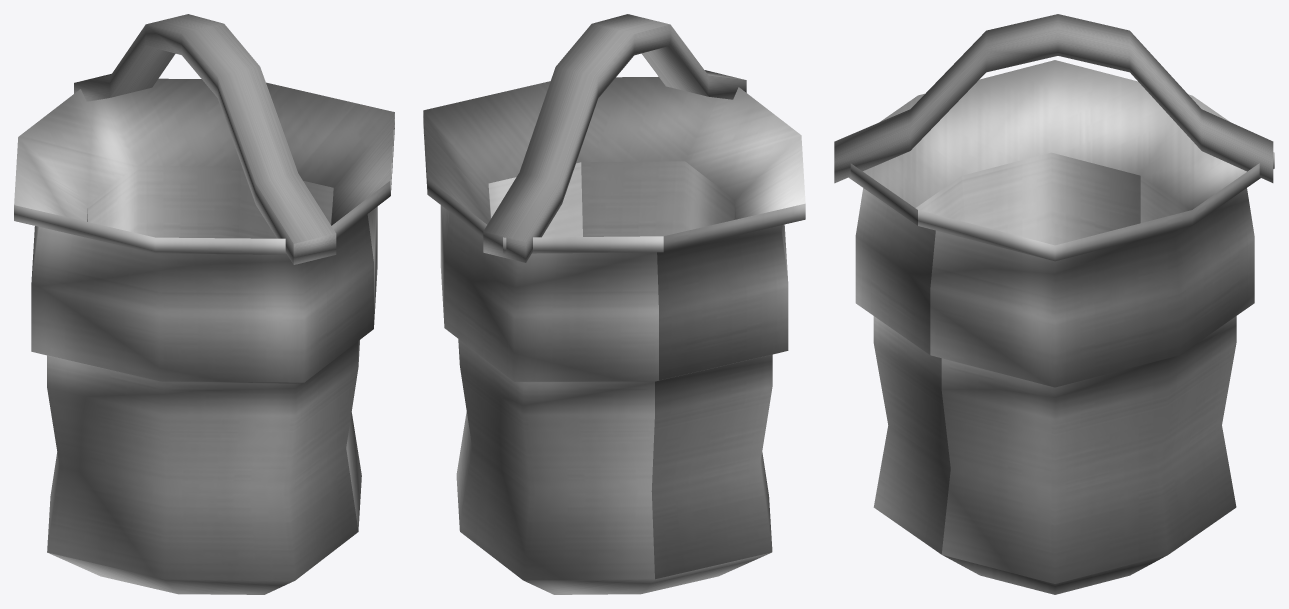
The model's file is turibuloflatagoravaiporra.fbx.
The picture shows the model from 3 angles, left to right: view 1: azimuth 30°, elevation 25°; view 2: azimuth 150°, elevation 25°; view 3: azimuth 270°, elevation 25°; orthographic projection.
Parts seen in each view (by area): view 1: Cube; view 2: Cube; view 3: Cube.
Boxes of the visible parts, box(x1,y1,x2,y2) form: Cube: box(14, 14, 394, 594); Cube: box(423, 14, 805, 594); Cube: box(834, 14, 1274, 594).
Size of the model in its own units: 60.48 by 81.87 by 60.65.
1 material, 1 textured.
